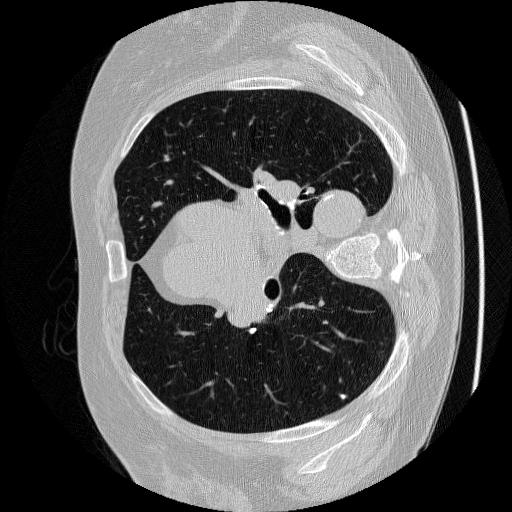nodule: (247, 326, 259, 338)
